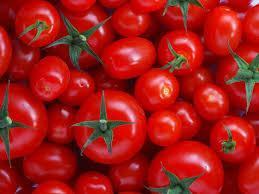healthy-tomato: (73, 90, 146, 165), (46, 9, 121, 73), (147, 142, 226, 194), (1, 84, 46, 162), (207, 117, 259, 171), (151, 1, 222, 38), (101, 37, 158, 82), (16, 1, 68, 49), (25, 142, 79, 187), (160, 30, 205, 78), (204, 5, 244, 58), (135, 70, 181, 115), (30, 57, 72, 104), (112, 2, 161, 41), (176, 68, 217, 106), (46, 102, 80, 147), (58, 69, 97, 108), (11, 41, 43, 88), (194, 84, 231, 123), (168, 102, 204, 142), (148, 110, 184, 149), (77, 171, 117, 194)
